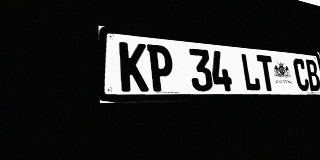3: (189, 48, 213, 91)
4: (209, 50, 233, 91)
B: (304, 59, 320, 91)
C: (292, 58, 310, 91)
K: (119, 41, 149, 92)
L: (240, 53, 261, 91)
P: (147, 44, 175, 91)
T: (256, 55, 277, 91)
